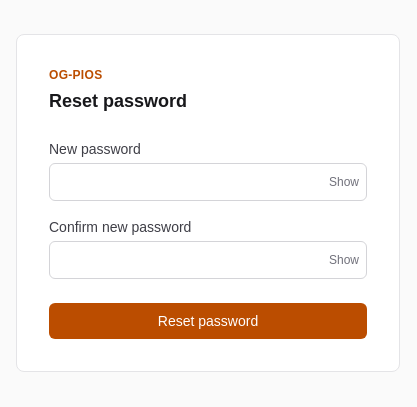
Test case: ResetPasswordPage › shows the backend's error message on failure
Type "password123" into the password field labelled "New password" at (208, 182), box [49,163,367,201]
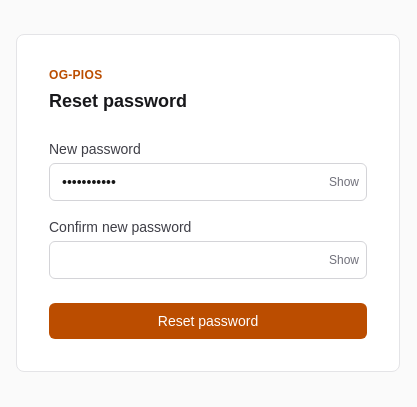
Type "password123" into the password field labelled "Confirm new password" at (208, 260), box [49,241,367,279]
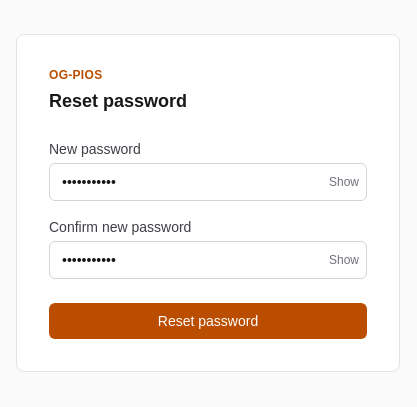
Click the button "Reset password" at (208, 321), box [49,303,367,339]
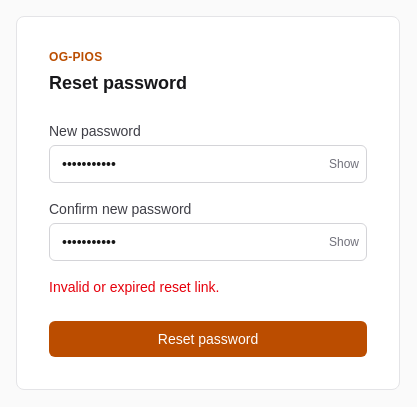
Now the text "Invalid or expired reset link." is shown, box [49,279,219,295]
